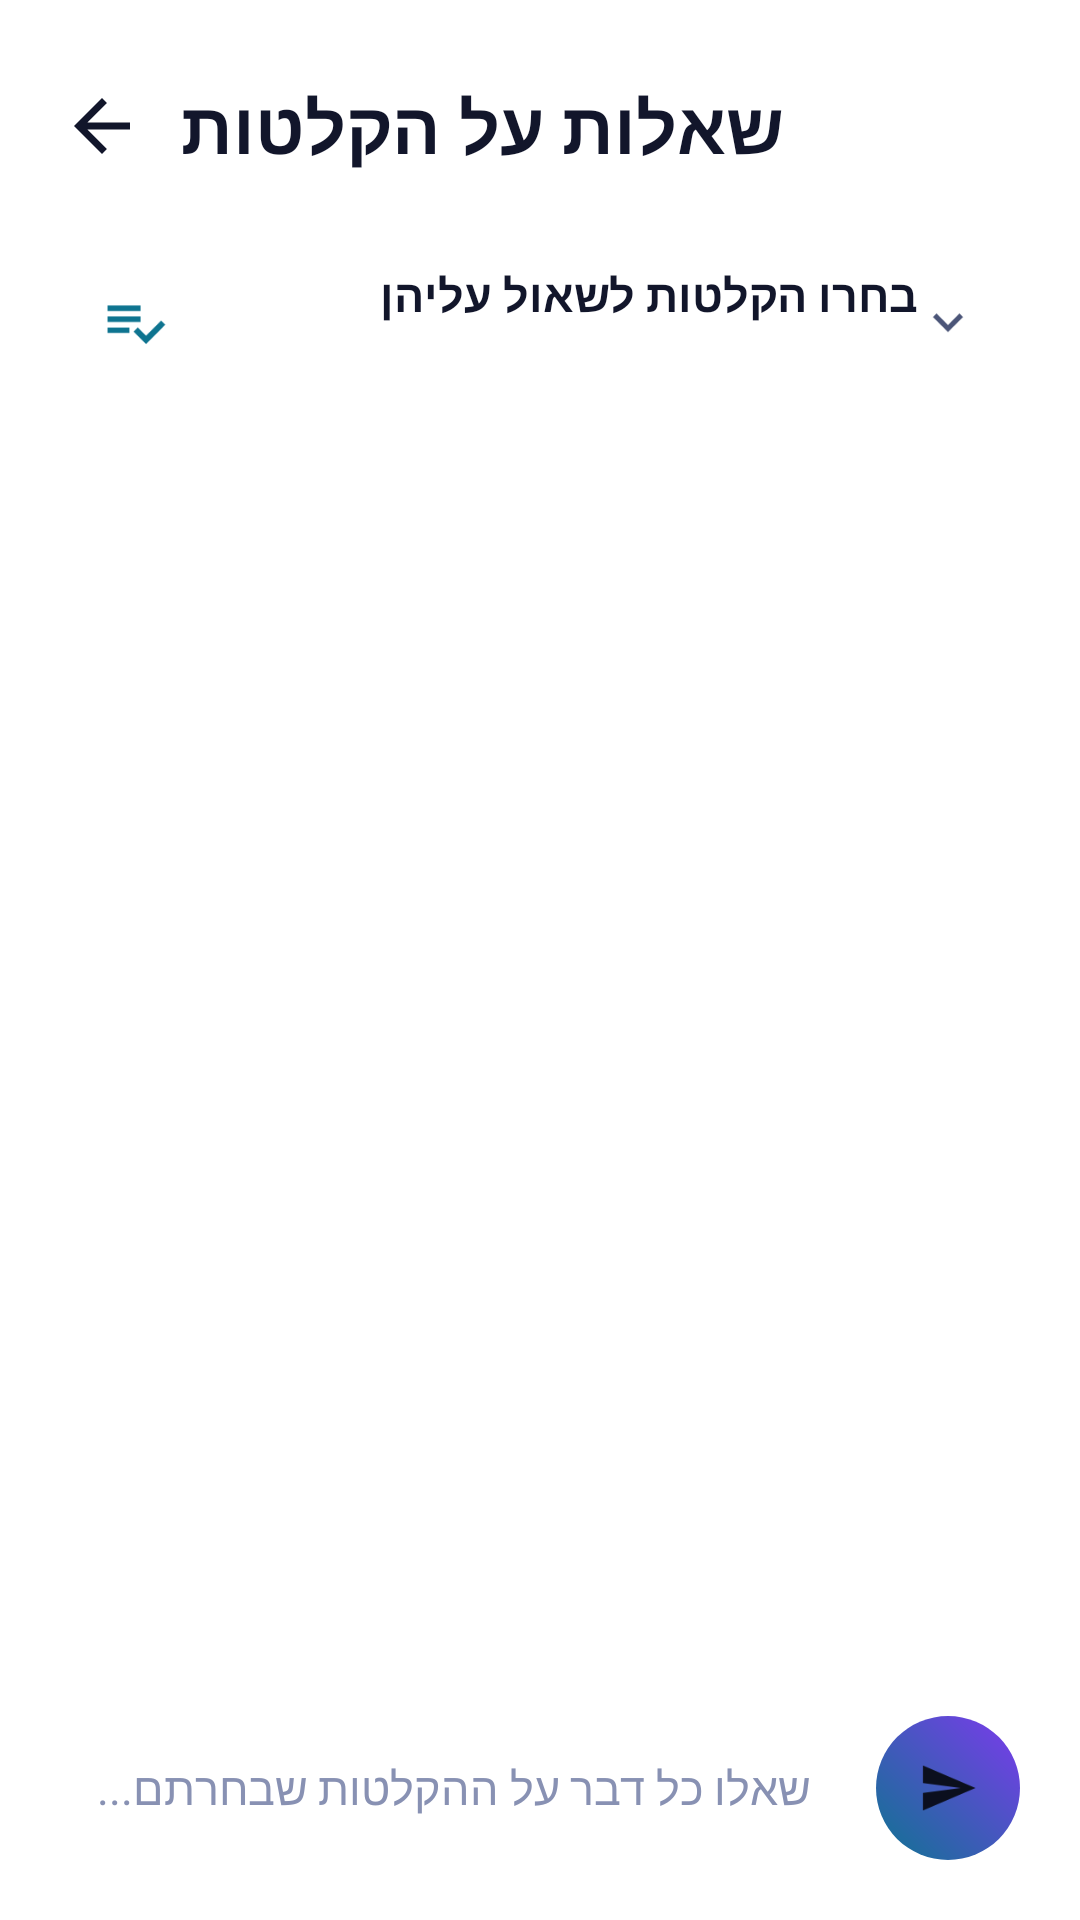

Where to tap for icons on this 1080px x 1920px app screen, as [x,y]:
back: [102,126]
checklist: [136,324]
chevron down: [948,322]
שלח: [946,1791]
